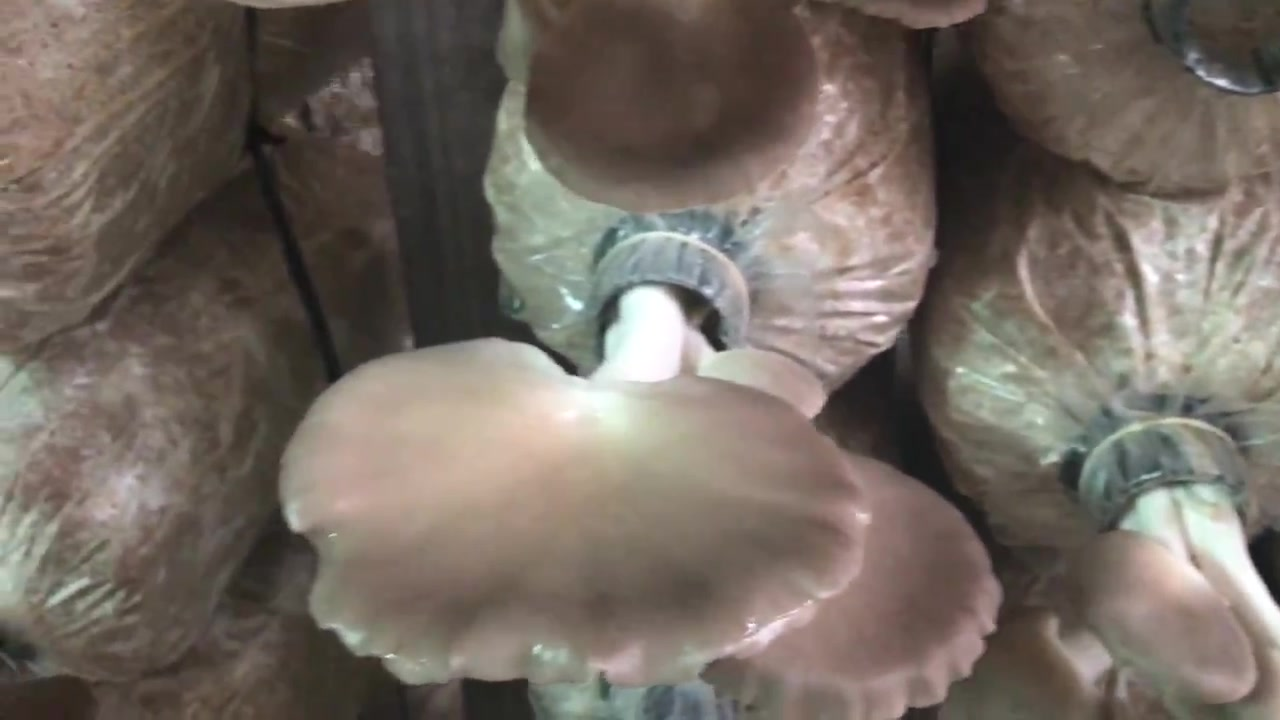nam: (281, 225, 875, 695), (935, 398, 1276, 720), (703, 449, 1006, 720), (524, 3, 817, 220)
